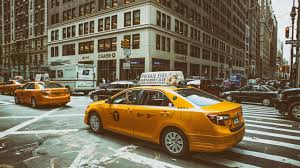car: (84, 85, 247, 156), (11, 80, 70, 111), (218, 81, 280, 106)
